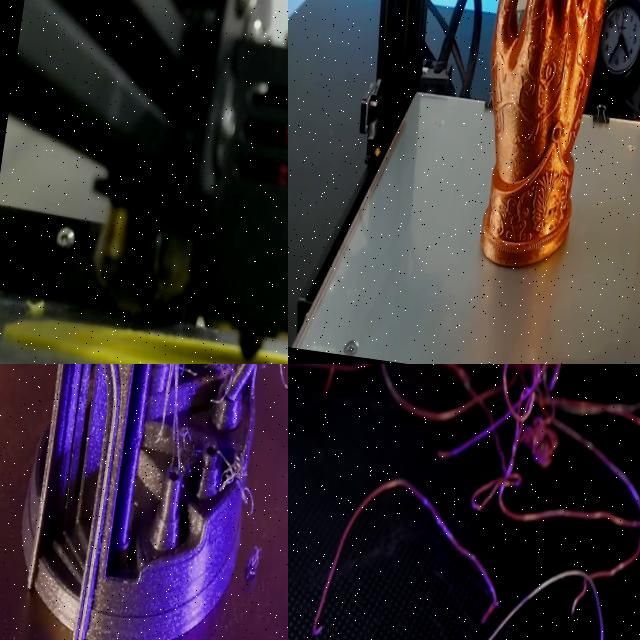spaghetti: (288, 364, 640, 640), (139, 364, 263, 503), (243, 540, 265, 582)
